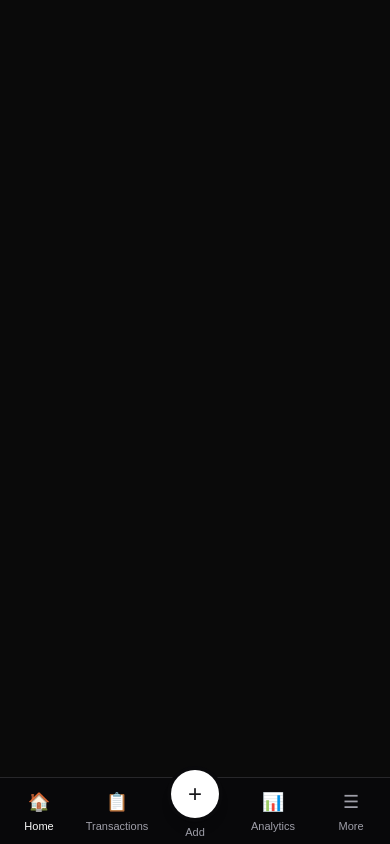
Test: MobileBottomNav › tapping More opens the more-options menu as a dialog
The image size is (390, 844).
Click the button with aria-label "more options" at (351, 811), box [312, 778, 389, 843]
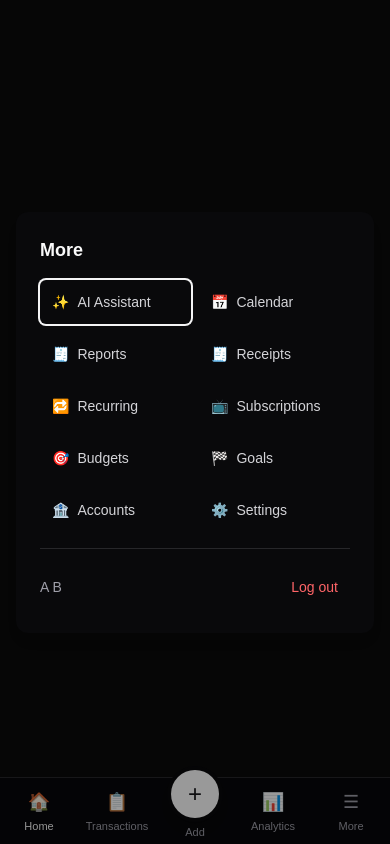
Check: the dialog "More" is shown, box [16, 212, 374, 632]
